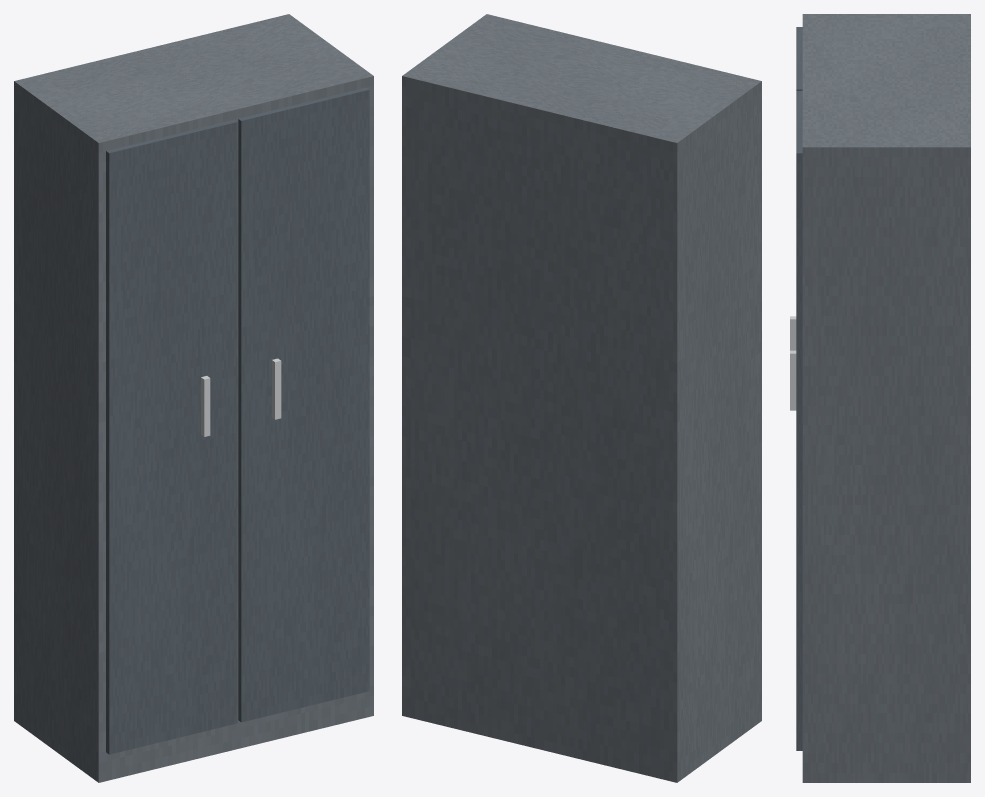
The model's file is cabinet_tall01.glb.
The picture shows the model from 3 angles, left to right: view 1: azimuth 30°, elevation 25°; view 2: azimuth 150°, elevation 25°; view 3: azimuth 270°, elevation 25°; orthographic projection.
Parts seen in each view (by area): view 1: doors, carcass, handles; view 2: carcass; view 3: carcass, doors, handles.
Part boxes in pixels (<box>): doors: <box>106,87,369,754</box>; carcass: <box>14,14,373,782</box>; handles: <box>201,358,281,436</box>; carcass: <box>402,14,761,782</box>; carcass: <box>802,14,970,782</box>; doors: <box>796,27,802,750</box>; handles: <box>790,316,796,410</box>.
Bounding box in the file's own units: 0.9 × 2 × 0.516.
4 materials, 3 textured.
